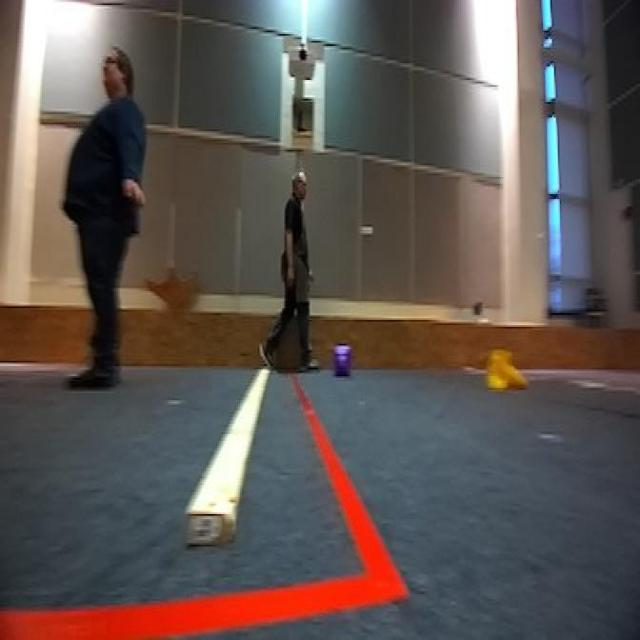frc_cone: (488, 351, 532, 393)
frc_cube: (334, 346, 354, 376)
